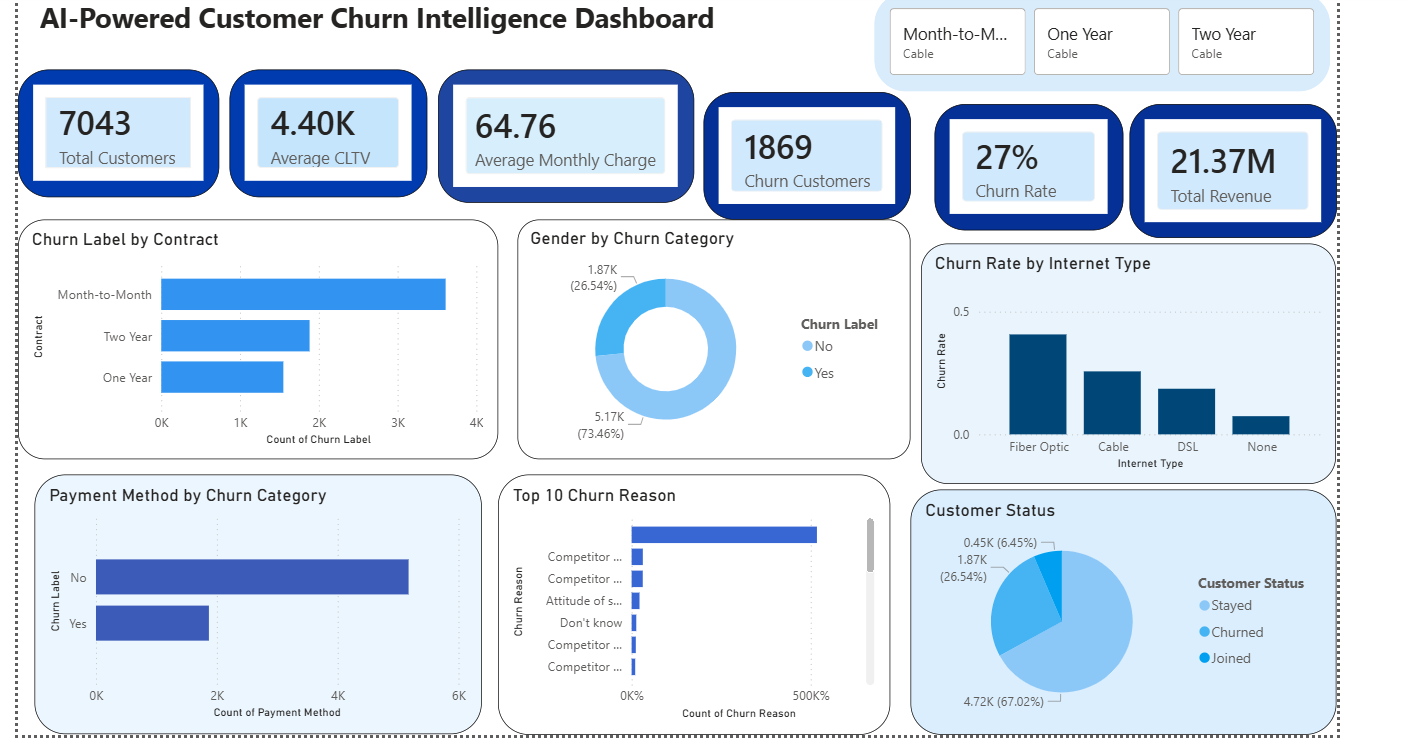

What the dashboard file says about the page in this screenshot:
{"tool":"powerbi","page":{"name":"Page 1","canvas":[1280,720],"ordinal":0},"visuals":[{"type":"cardVisual","fields":{"Data":["telco.Total Customers"]},"box":[0,74.2,195,123.7],"z":0},{"type":"cardVisual","fields":{"Data":["Sum(telco.Total Revenue)"]},"box":[1078.1,107.5,201.4,130.2],"z":1000},{"type":"cardVisual","fields":{"Data":["telco.Average CLTV"]},"box":[205.2,74.2,192.1,123.7],"z":2000},{"type":"cardVisual","fields":{"Data":["telco.Average Monthly Charge"]},"box":[407.6,74.2,248.9,129.5],"z":3000},{"type":"cardVisual","fields":{"Data":["telco.Churn Customers"]},"box":[664.7,95.4,201.4,124.2],"z":4000},{"type":"barChart","title":"Churn Label by Contract","fields":{"Category":["telco.Contract"],"Y":["CountNonNull(telco.Churn Label)"]},"box":[0,219.8,465.8,232.9],"z":5000},{"type":"donutChart","title":" Gender by Churn Category","fields":{"Y":["CountNonNull(telco.Gender)"],"Category":["telco.Churn Label"]},"box":[484.7,219.8,381.4,232.9],"z":6000},{"type":"columnChart","fields":{"Category":["telco.Internet Type"],"Y":["telco.Churn Rate"]},"box":[876.7,243.8,402.8,233.2],"z":7000},{"type":"clusteredBarChart","title":"Payment Method by Churn Category","fields":{"Category":["telco.Churn Label"],"Y":["CountNonNull(telco.Payment Method)"]},"box":[16,467.2,433.8,251.8],"z":8000},{"type":"clusteredBarChart","title":"Top 10 Churn Reason","fields":{"Category":["telco.Churn Reason"],"Y":["CountNonNull(telco.Churn Reason)"]},"box":[465.8,467.4,380.5,252.6],"z":9000},{"type":"pieChart","title":"Customer Status","fields":{"Category":["telco.Customer Status"],"Y":["CountNonNull(telco.Customer Status)"]},"box":[866.1,481.5,413.4,237.7],"z":10000},{"type":"textbox","box":[16.7,0,872.2,56],"z":11000},{"type":"cardVisual","fields":{"Data":["telco.Churn Rate"]},"box":[888.8,107.5,183.2,122.7],"z":12000},{"type":"advancedSlicerVisual","fields":{"Values":["telco.Contract"],"Label":["Min(telco.Internet Type)"]},"box":[831.3,0,442.1,95.4],"z":12001}]}

Visuals, with their boxes in screenshot pixels (x1, y1, x2, y2):
cardVisual - telco.Total Customers: <region>29, 83, 227, 208</region>
cardVisual - Sum(telco.Total Revenue): <region>1122, 116, 1326, 248</region>
cardVisual - telco.Average CLTV: <region>237, 83, 432, 208</region>
cardVisual - telco.Average Monthly Charge: <region>443, 83, 695, 214</region>
cardVisual - telco.Churn Customers: <region>703, 104, 907, 230</region>
"Churn Label by Contract" barChart: <region>29, 230, 502, 466</region>
" Gender by Churn Category" donutChart: <region>521, 230, 907, 466</region>
columnChart - telco.Internet Type x telco.Churn Rate: <region>918, 254, 1326, 491</region>
"Payment Method by Churn Category" clusteredBarChart: <region>46, 481, 485, 736</region>
"Top 10 Churn Reason" clusteredBarChart: <region>502, 481, 887, 737</region>
"Customer Status" pieChart: <region>907, 495, 1326, 736</region>
textbox: <region>46, 7, 930, 64</region>
cardVisual - telco.Churn Rate: <region>930, 116, 1116, 241</region>
advancedSlicerVisual - telco.Contract x Min(telco.Internet Type): <region>872, 7, 1320, 104</region>
